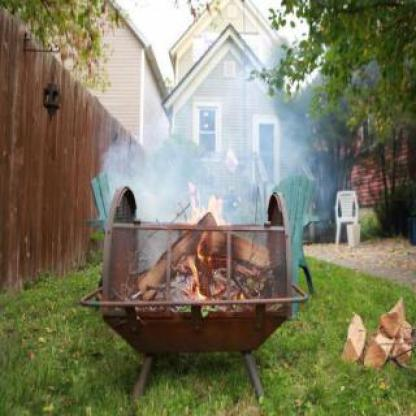Fire: (184, 181, 224, 290)
Smoke: (88, 117, 308, 244)
